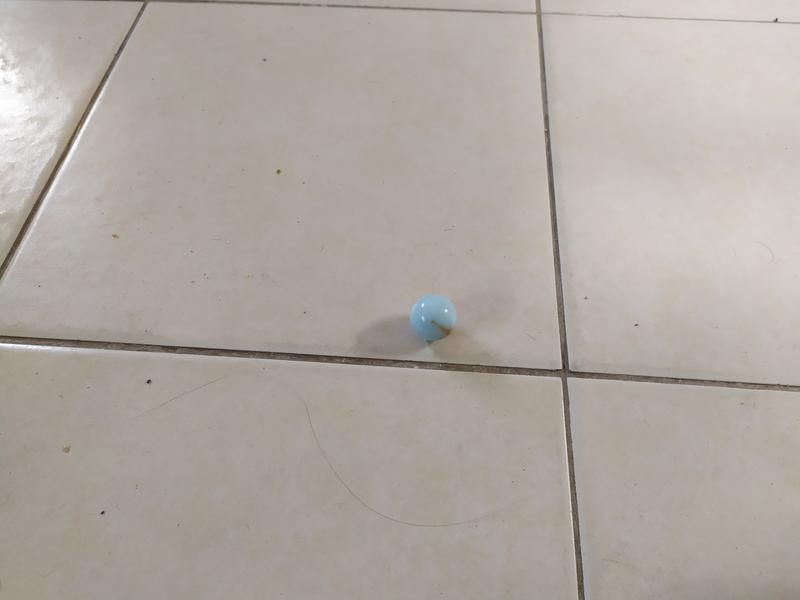Warning: (406, 291, 461, 344)
